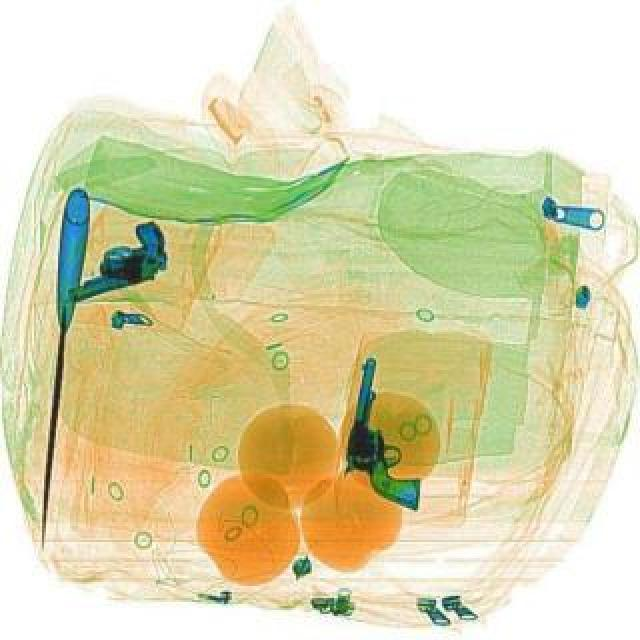gun: (330, 352, 446, 508), (50, 214, 176, 300)
knife: (26, 184, 90, 552)
